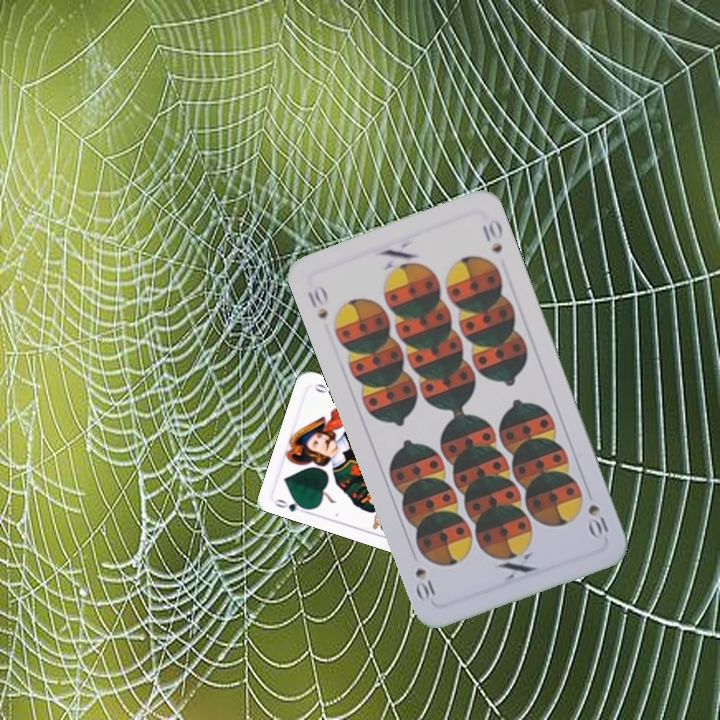GO: (271, 495, 312, 516)
S10: (303, 281, 331, 322), (584, 500, 611, 539)
